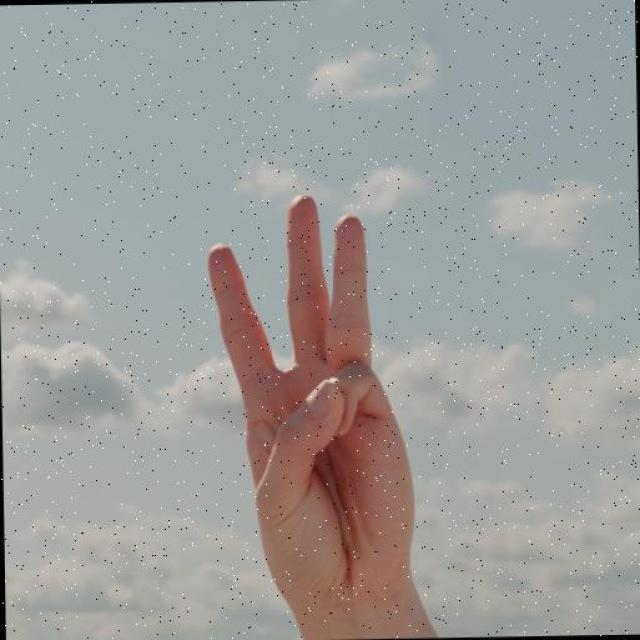W: (203, 186, 424, 612)
